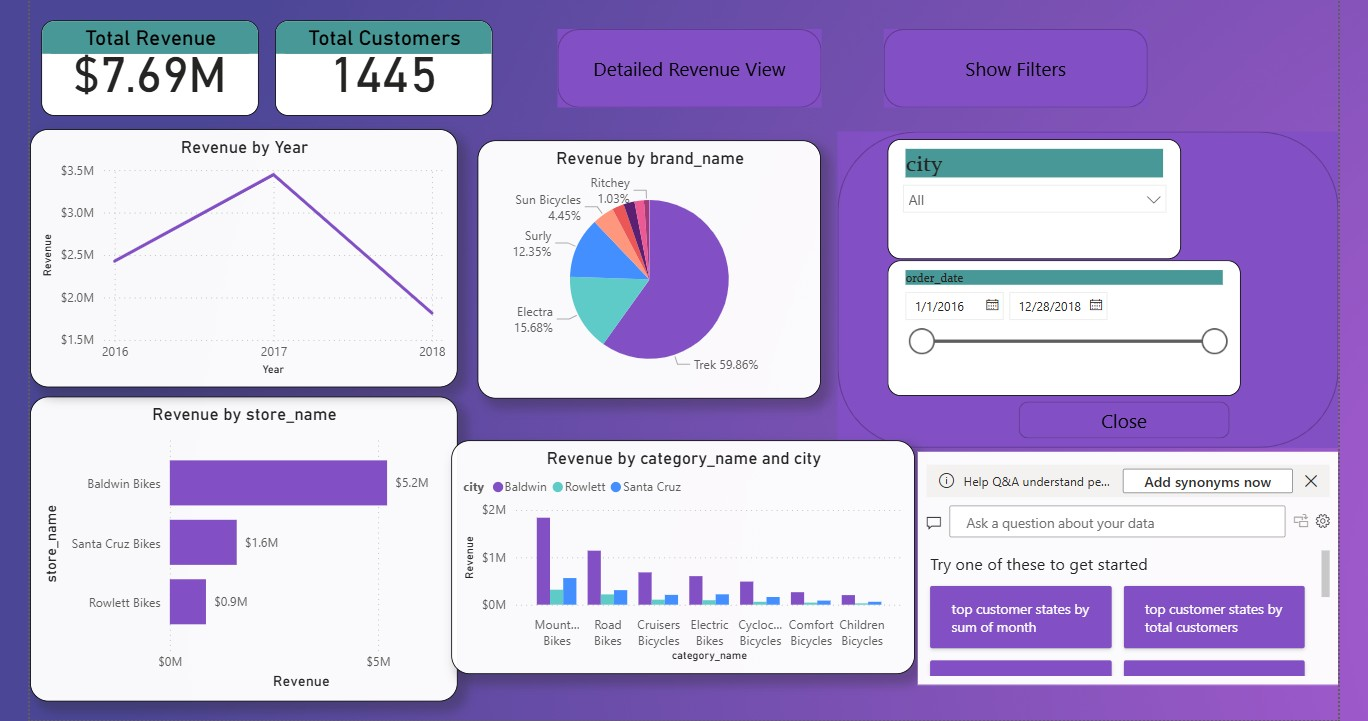

The dashboard page shown, as its layout file describes it:
{"tool":"powerbi","page":{"name":"Page 1","canvas":[1280,720],"ordinal":0},"visuals":[{"type":"shape","box":[789.5,144.6,490.2,309.4],"z":0},{"type":"slicer","fields":{"Values":["Orders.order_date"]},"box":[838.7,270.2,345.6,133.1],"z":0,"group":"g1"},{"type":"card","title":"Total Revenue","fields":{"Values":["Table.Revenue"]},"box":[11,35.7,212.7,93.3],"z":1000},{"type":"group","id":"g1","title":"Group 1","box":[838.7,151.8,345.6,293.5],"z":1000,"group":"g2"},{"type":"slicer","fields":{"Values":["Stores.city"]},"box":[839,151.8,287.5,117.5],"z":1000,"group":"g1"},{"type":"shape","title":"Detai","box":[967.6,409.2,206.2,36.2],"z":1500,"group":"g1"},{"type":"barChart","fields":{"Category":["Stores.store_name"],"Y":["Table.Revenue"]},"box":[0,403.5,418.2,298.4],"z":2000},{"type":"clusteredColumnChart","fields":{"Category":["Categories.category_name"],"Y":["Table.Revenue"],"Series":["Stores.city"]},"box":[412.1,446.3,453.7,228.7],"z":3000},{"type":"lineChart","fields":{"Y":["Table.Revenue"],"Category":["Orders.order_date.Variation.Date Hierarchy.Year","Orders.order_date.Variation.Date Hierarchy.Quarter","Orders.order_date.Variation.Date Hierarchy.Month","Orders.order_date.Variation.Date Hierarchy.Day"]},"box":[0,141.8,418.2,253.1],"z":4000},{"type":"pieChart","fields":{"Category":["Brands.brand_name"],"Y":["Table.Revenue"]},"box":[437.8,152.9,336.3,253.1],"z":5000},{"type":"card","title":"Total Customers","fields":{"Values":["Table.total_customers"]},"box":[240.1,35.7,212.7,93.3],"z":6000},{"type":"shape","title":"Detai","box":[516.4,43.4,258.2,77],"z":7000},{"type":"group","id":"g2","title":"Group 2","box":[838.7,151.8,345.6,293.5],"z":9000},{"type":"shape","title":"Detai","box":[835.4,43.4,258.2,77],"z":10000},{"type":"qnaVisual","box":[868,457,412,228],"z":11000}]}

Visuals, with their boxes on the page's 1280x720 design canvas (x1, y1, x2, y2). These are canvas units, not pixel positions in the 1368x721 screenshot, which may show the page scaled, cropped or inside an application window:
shape: 790:145:1280:454
slicer - Orders.order_date: 839:270:1184:403
"Total Revenue" card: 11:36:224:129
"Group 1" group: 839:152:1184:445
slicer - Stores.city: 839:152:1126:269
"Detai" shape: 968:409:1174:445
barChart - Stores.store_name x Table.Revenue: 0:404:418:702
clusteredColumnChart - Categories.category_name x Table.Revenue: 412:446:866:675
lineChart - Table.Revenue x Orders.order_date.Variation.Date Hierarchy.Year: 0:142:418:395
pieChart - Brands.brand_name x Table.Revenue: 438:153:774:406
"Total Customers" card: 240:36:453:129
"Detai" shape: 516:43:775:120
"Group 2" group: 839:152:1184:445
"Detai" shape: 835:43:1094:120
qnaVisual: 868:457:1280:685
